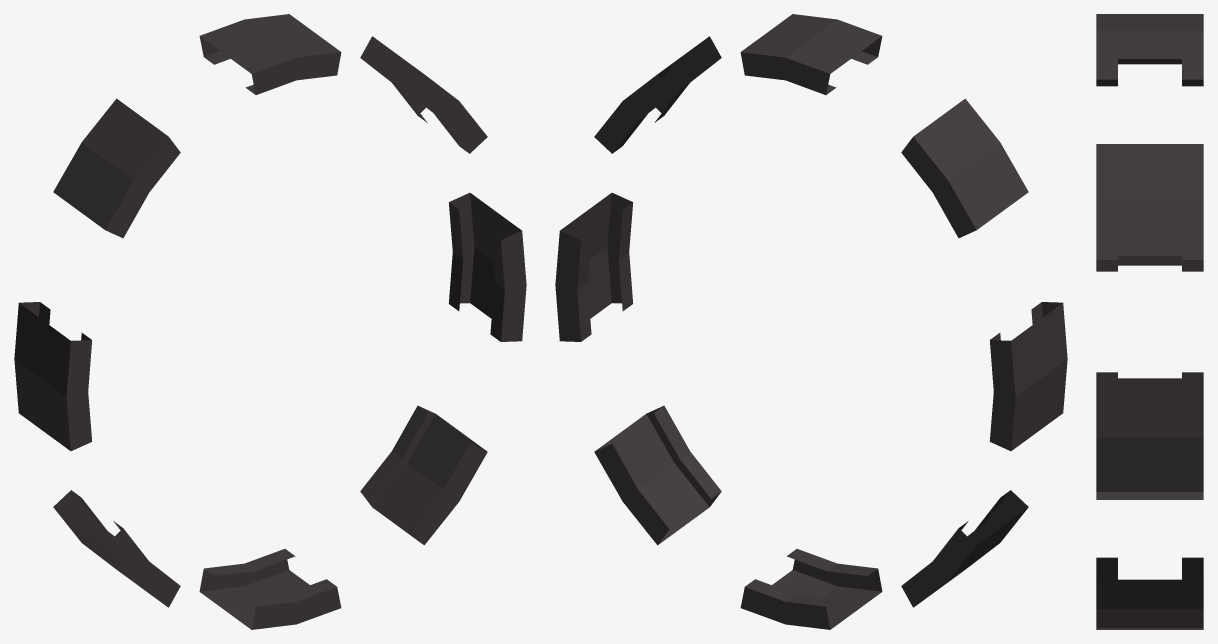
Rendered from coinFlame.obj.
3 renders of one model, left to right at view 1: azimuth 30°, elevation 25°; view 2: azimuth 150°, elevation 25°; view 3: azimuth 270°, elevation 25°, orthographic. The views are drawn at different scales.
Visible parts, largest first — view 1: 円柱; view 2: 円柱; view 3: 円柱.
Part boxes in pixels (bbox=[...]): 円柱: bbox=[14, 14, 526, 629]; 円柱: bbox=[555, 14, 1067, 629]; 円柱: bbox=[1096, 14, 1203, 629].
Bounding box in the file's own units: 2 × 2.35 × 0.3924.
